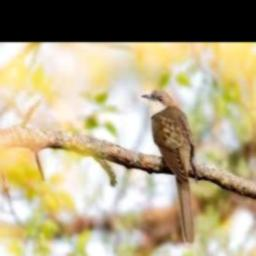Cuckoo: (140, 90, 197, 248)
